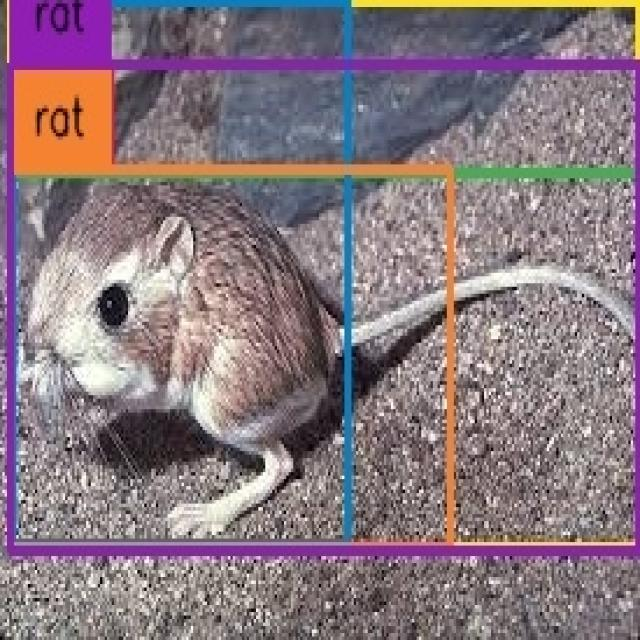rat: (10, 0, 639, 549), (10, 65, 639, 551), (11, 171, 640, 545), (13, 0, 348, 546), (11, 172, 450, 546), (11, 173, 346, 544)
